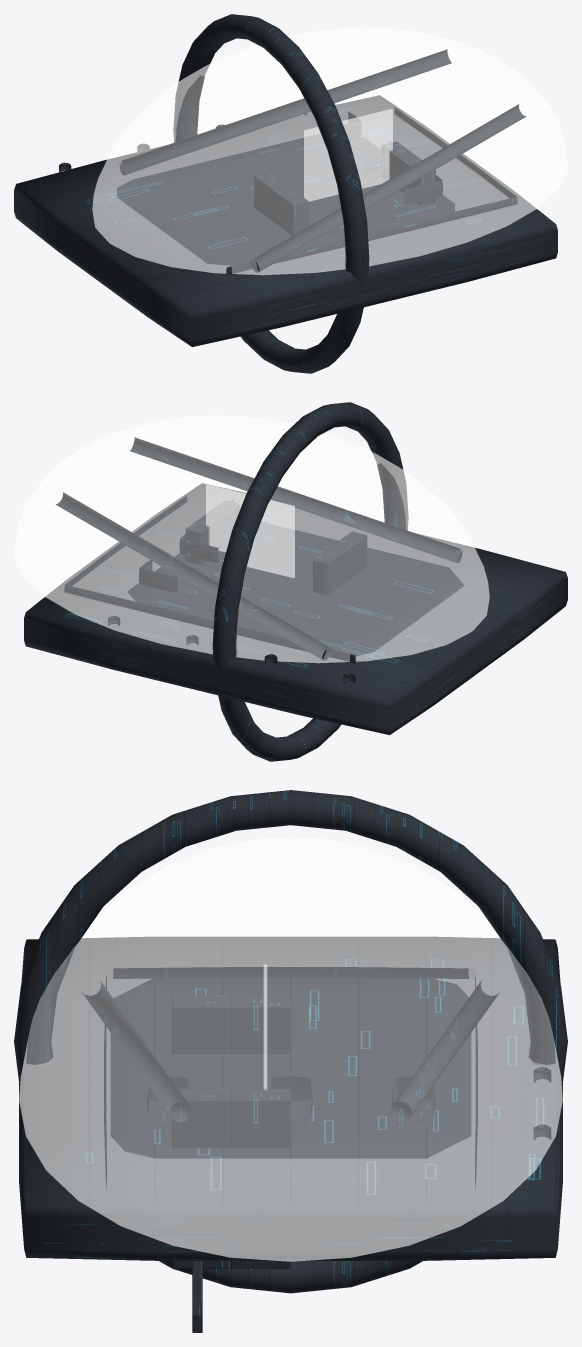
The model's file is cockpit_dome.glb.
3 views of the same model, one above another, from view 1: azimuth 30°, elevation 25°; view 2: azimuth 150°, elevation 25°; view 3: azimuth 270°, elevation 25° (orthographic). The views are drawn at different scales.
Visible parts, largest first — view 1: Dome_Glass, Dome_Mount_Collar, cockpit_dome_Material_Accent_Merged, cockpit_dome_Material_Mechanical_Merged, DET_glass_scratch, DET_frame_rib_L, DET_frame_rib_R; view 2: Dome_Glass, Dome_Mount_Collar, cockpit_dome_Material_Accent_Merged, cockpit_dome_Material_Mechanical_Merged, DET_glass_scratch, DET_frame_rib_L, DET_frame_rib_R; view 3: Dome_Glass, Dome_Mount_Collar, cockpit_dome_Material_Accent_Merged, cockpit_dome_Material_Mechanical_Merged, DET_frame_rib_R, DET_frame_rib_L, DET_collar_seam.
Boxes of the visible parts, bbox=[...] form: Dome_Glass: bbox=[92, 27, 567, 275]; Dome_Mount_Collar: bbox=[14, 95, 557, 346]; cockpit_dome_Material_Accent_Merged: bbox=[173, 14, 443, 373]; cockpit_dome_Material_Mechanical_Merged: bbox=[59, 49, 525, 276]; DET_glass_scratch: bbox=[304, 109, 392, 201]; DET_frame_rib_L: bbox=[254, 172, 308, 235]; DET_frame_rib_R: bbox=[381, 141, 435, 205]; Dome_Glass: bbox=[14, 415, 489, 663]; Dome_Mount_Collar: bbox=[24, 483, 567, 734]; cockpit_dome_Material_Accent_Merged: bbox=[138, 402, 408, 761]; cockpit_dome_Material_Mechanical_Merged: bbox=[56, 437, 462, 683]; DET_glass_scratch: bbox=[206, 484, 294, 577]; DET_frame_rib_L: bbox=[313, 531, 367, 595]; DET_frame_rib_R: bbox=[185, 500, 239, 564]; Dome_Glass: bbox=[19, 837, 562, 1261]; Dome_Mount_Collar: bbox=[19, 937, 562, 1260]; cockpit_dome_Material_Accent_Merged: bbox=[14, 790, 567, 1293]; cockpit_dome_Material_Mechanical_Merged: bbox=[82, 954, 551, 1190]; DET_frame_rib_R: bbox=[172, 1088, 290, 1268]; DET_frame_rib_L: bbox=[172, 995, 290, 1053]; DET_collar_seam: bbox=[192, 1261, 202, 1332].
Size of the model in its own units: 4.6 by 3.26 by 3.26.
4 materials, 3 textured.
